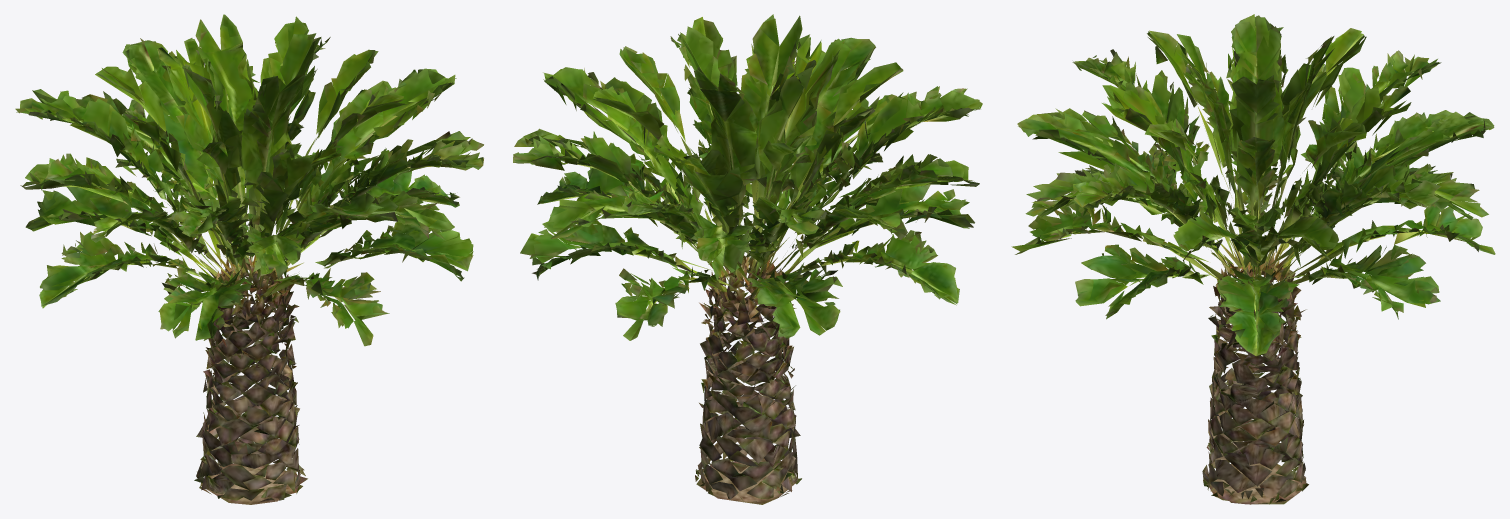
The model's file is cycad.glb.
3 views of the same model, side by side, from view 1: azimuth 30°, elevation 25°; view 2: azimuth 150°, elevation 25°; view 3: azimuth 270°, elevation 25° (orthographic).
Visible parts, largest first — view 1: Mesh_0; view 2: Mesh_0; view 3: Mesh_0.
Part boxes in pixels (<box>): Mesh_0: <box>15,14,483,504</box>; Mesh_0: <box>513,14,982,504</box>; Mesh_0: <box>1011,14,1495,504</box>.
Size of the model in its own units: 0.9903 by 1.01 by 0.9899.
1 material, 1 textured.
